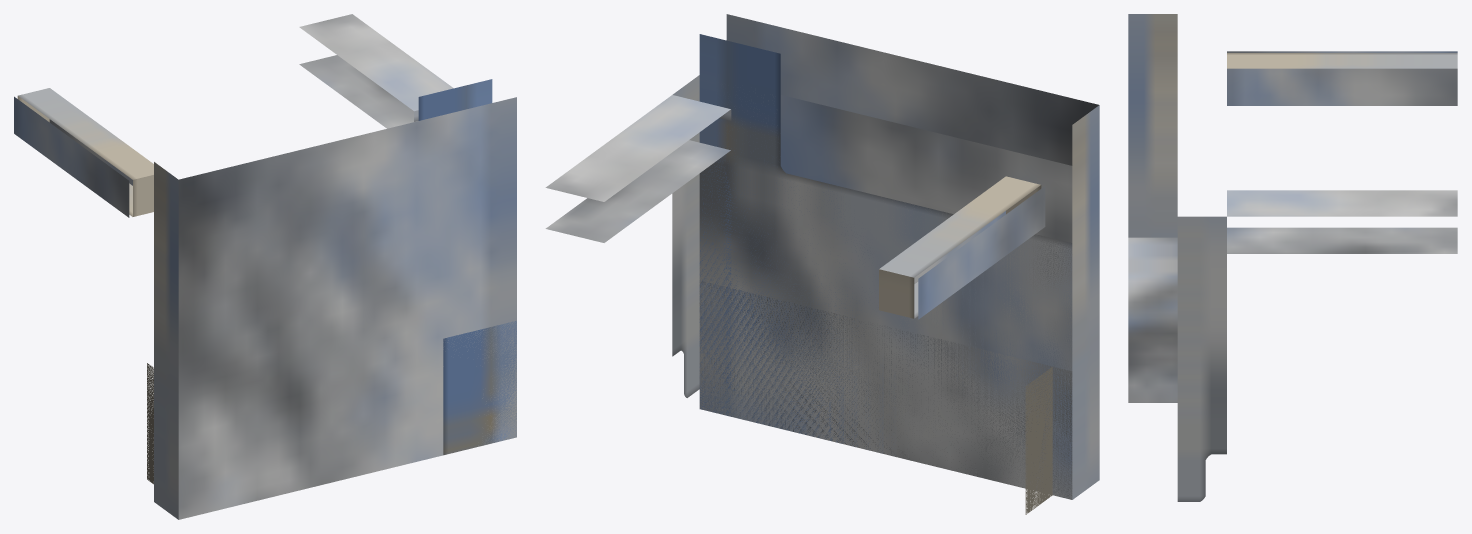
Rendered from section-2.obj.
The picture shows the model from 3 angles, left to right: view 1: azimuth 30°, elevation 25°; view 2: azimuth 150°, elevation 25°; view 3: azimuth 270°, elevation 25°; orthographic projection. The views are drawn at different scales.
Size of the model in its own units: 0.9215 by 0.886 by 0.776.
